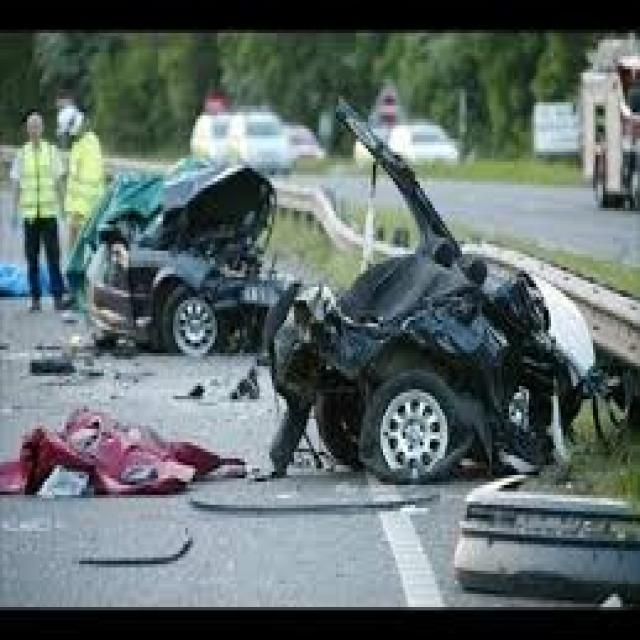car-serious-accident: (89, 116, 586, 488)
